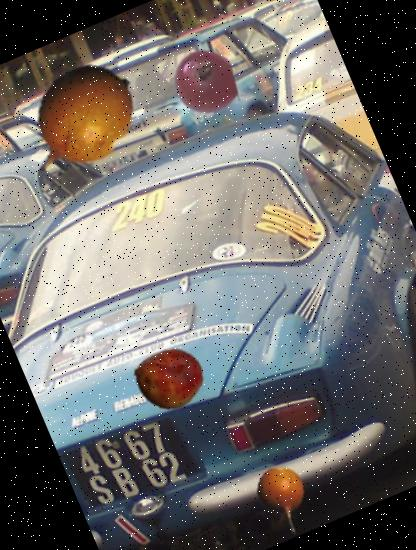Granadilla: (0, 39, 163, 206), (235, 455, 325, 545)
Peach: (122, 333, 214, 424)
Redcurrant: (164, 40, 248, 124)
